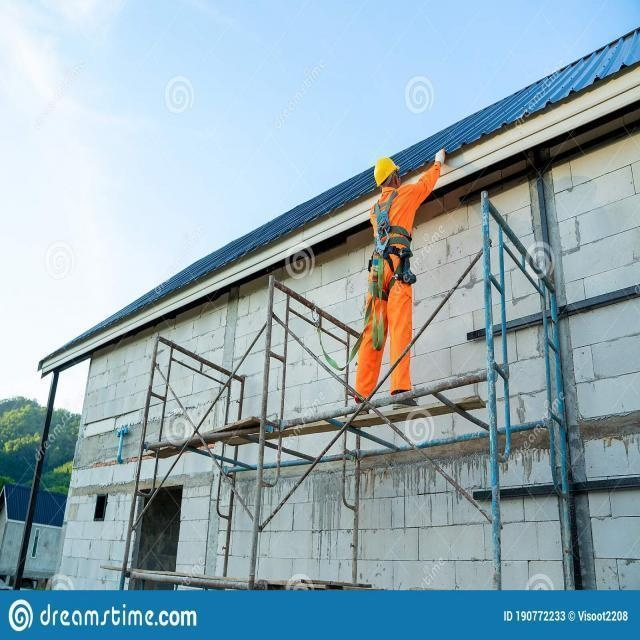Arnes_seguridad: (367, 189, 415, 306)
